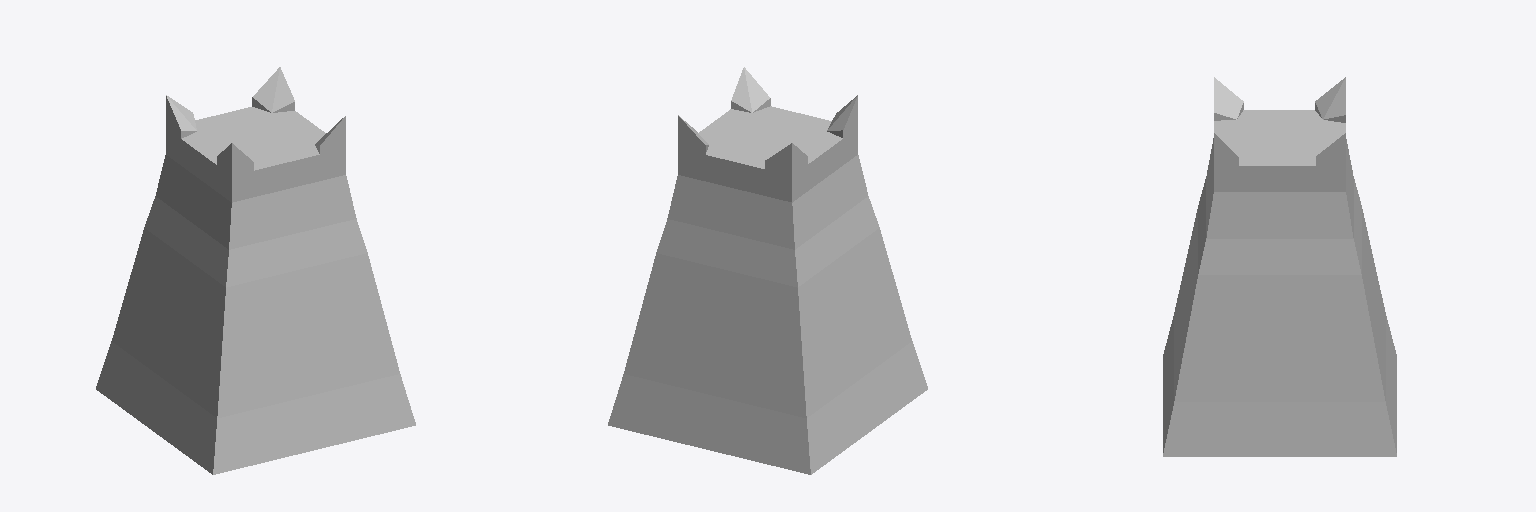
File: sc_crystal_base.phys.obj
The picture shows the model from 3 angles: view 1: azimuth 30°, elevation 25°; view 2: azimuth 150°, elevation 25°; view 3: azimuth 270°, elevation 25°; orthographic projection.
Bounding box in the file's own units: 2.51 × 3.56 × 2.51.